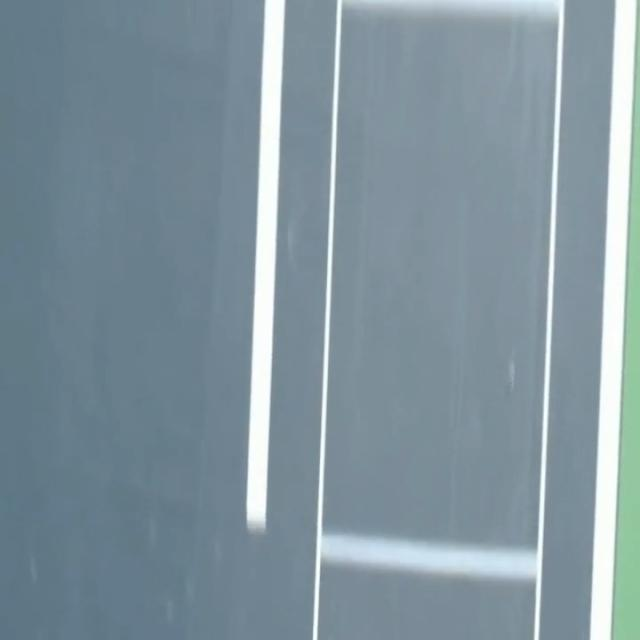center: (246, 0, 284, 532)
right: (589, 0, 636, 639)
